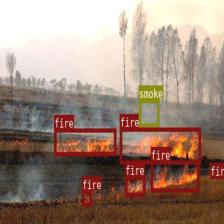fire: (120, 127, 200, 164), (54, 128, 116, 155), (150, 159, 199, 191), (125, 175, 145, 195), (210, 162, 224, 178), (81, 190, 91, 205)
smoke: (138, 99, 159, 127)
